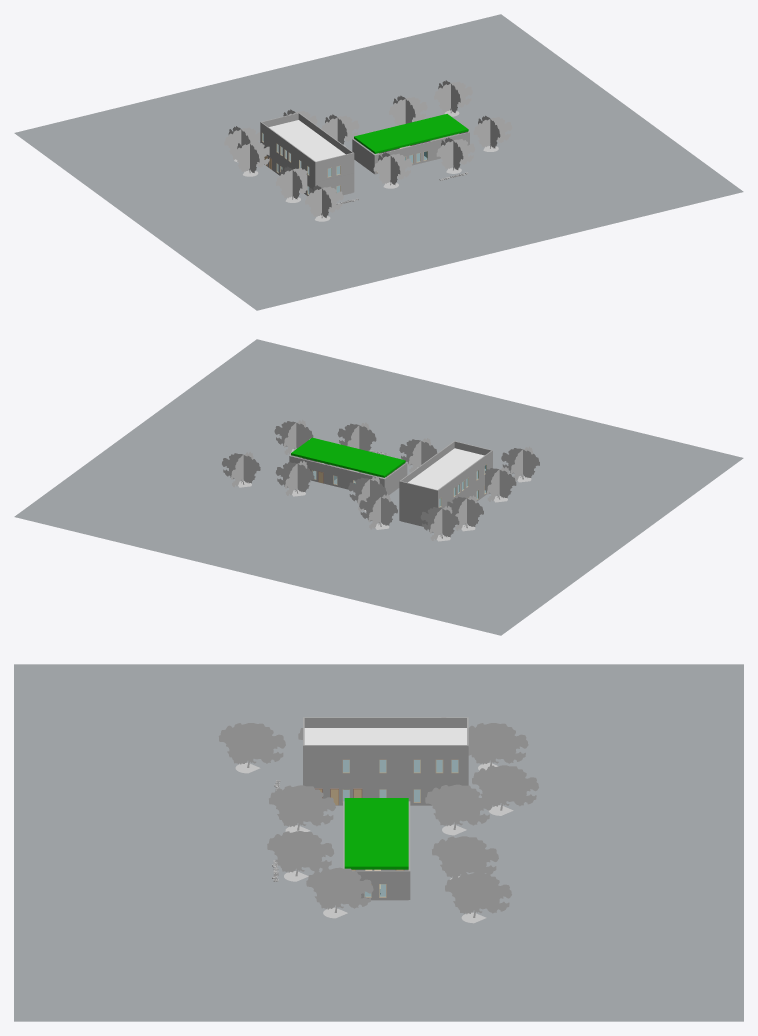
The model's file is office.glb.
3 views of the same model, one above another, from view 1: azimuth 30°, elevation 25°; view 2: azimuth 150°, elevation 25°; view 3: azimuth 270°, elevation 25° (orthographic). The views are drawn at different scales.
Visible parts, largest first — view 1: ground, 2cXV28XOjE6f6irgi0COIc, 2cXV28XOjE6f6irgi0COez, 2cXV28XOjE6f6irga0COSw, 2cXV28XOjE6f6irgi0CO22, 2cXV28XOjE6f6irgi0CO4t; view 2: ground, 2cXV28XOjE6f6irgi0COIc, 2cXV28XOjE6f6irgi0COez, 2cXV28XOjE6f6irga0COSw, 2cXV28XOjE6f6irgi0CO22; view 3: ground, 2cXV28XOjE6f6irgi0COIc, 2cXV28XOjE6f6irgi0COez, 2cXV28XOjE6f6irga0COSw, 2cXV28XOjE6f6irgi0CO22, 2cXV28XOjE6f6irgi0CO28, 2cXV28XOjE6f6irgi0CO4t.
Boxes of the visible parts, box(x1,y1,x2,y2) form: ground: box(14, 14, 743, 310); 2cXV28XOjE6f6irgi0COIc: box(224, 80, 512, 221); 2cXV28XOjE6f6irgi0COez: box(260, 112, 469, 195); 2cXV28XOjE6f6irga0COSw: box(354, 114, 468, 153); 2cXV28XOjE6f6irgi0CO22: box(269, 120, 345, 161); 2cXV28XOjE6f6irgi0CO4t: box(261, 132, 427, 195); ground: box(14, 339, 743, 635); 2cXV28XOjE6f6irgi0COIc: box(222, 419, 539, 541); 2cXV28XOjE6f6irgi0COez: box(289, 441, 492, 526); 2cXV28XOjE6f6irga0COSw: box(291, 437, 405, 477); 2cXV28XOjE6f6irgi0CO22: box(408, 448, 484, 489); ground: box(14, 664, 743, 1021); 2cXV28XOjE6f6irgi0COIc: box(218, 717, 538, 923); 2cXV28XOjE6f6irgi0COez: box(303, 717, 468, 899); 2cXV28XOjE6f6irga0COSw: box(344, 798, 408, 869); 2cXV28XOjE6f6irgi0CO22: box(304, 728, 466, 744); 2cXV28XOjE6f6irgi0CO28: box(303, 760, 468, 900); 2cXV28XOjE6f6irgi0CO4t: box(342, 759, 458, 897).
Size of the model in its own units: 103 by 8.15 by 89.12.
